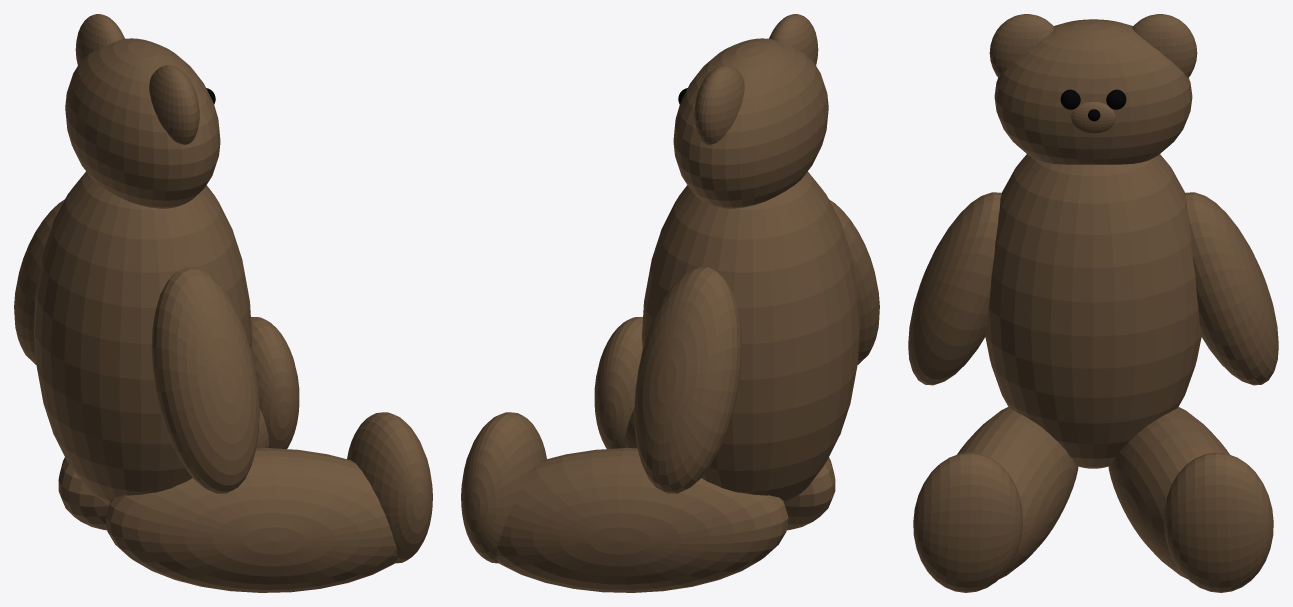
Rendered from teddy.glb.
The picture shows the model from 3 angles, left to right: view 1: azimuth 30°, elevation 25°; view 2: azimuth 150°, elevation 25°; view 3: azimuth 270°, elevation 25°; orthographic projection. The views are drawn at different scales.
Visible parts, largest first — view 1: Sphere.004; view 2: Sphere.004; view 3: Sphere.004.
Boxes of the visible parts, x1,y1,x2,y2 form: Sphere.004: [14, 14, 432, 592]; Sphere.004: [461, 14, 879, 592]; Sphere.004: [908, 14, 1278, 592].
Size of the model in its own units: 1.01 by 1.69 by 1.12.
